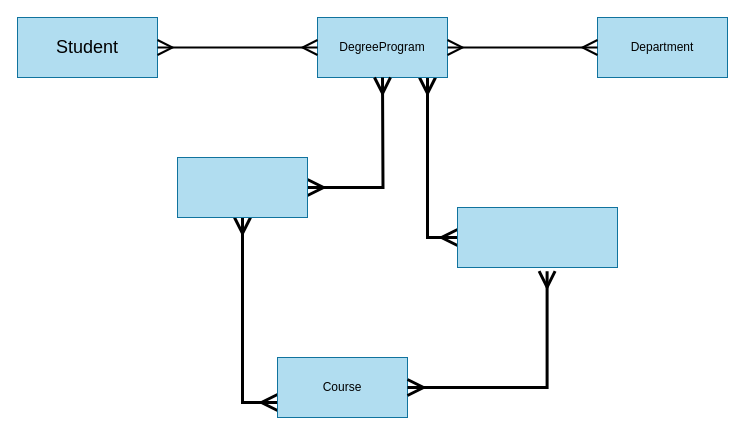
This 745x436 diagram has some shape labels left out. Here are the shapes that lost their labels. From the top down, the centre of each, then its label:
At pixel 242 187: "CoreRequirement".
At pixel 537 237: "DegresSpecificRequirement".
